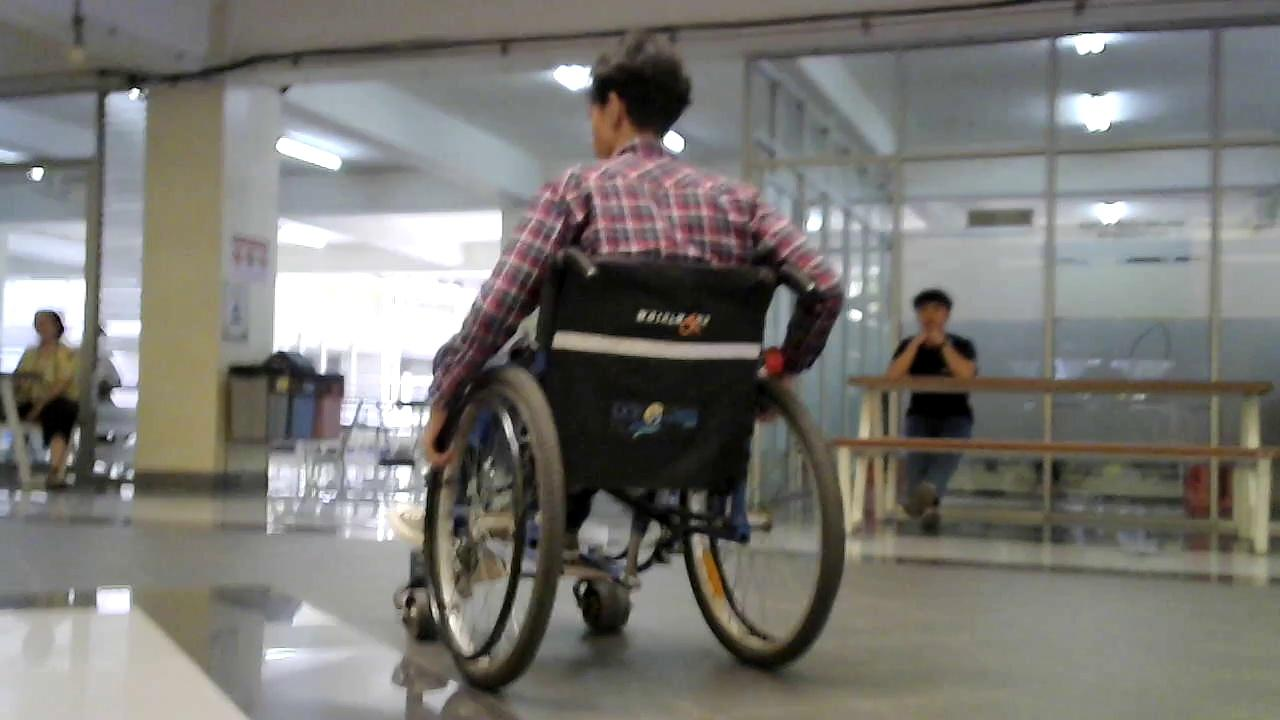person: (415, 30, 849, 623), (883, 288, 980, 532), (12, 308, 84, 489)
wheelchair: (404, 225, 866, 688)
